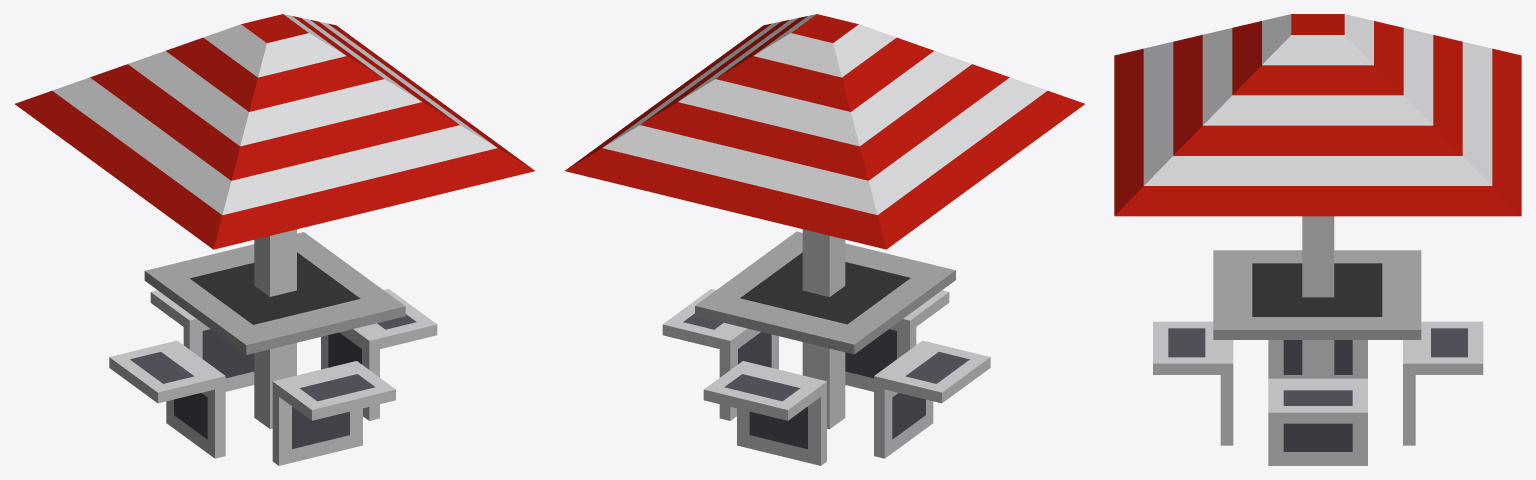
The model's file is umbrella1.FBX.
3 views of the same model, side by side, from view 1: azimuth 30°, elevation 25°; view 2: azimuth 150°, elevation 25°; view 3: azimuth 270°, elevation 25° (orthographic). The views are drawn at different scales.
Visible parts, largest first — view 1: umbrella1; view 2: umbrella1; view 3: umbrella1.
Boxes of the visible parts, x1=… form: umbrella1: x1=15, y1=14, x2=534, y2=465; umbrella1: x1=565, y1=14, x2=1084, y2=465; umbrella1: x1=1114, y1=14, x2=1521, y2=465.
Bounding box in the file's own units: 7.15 × 8.32 × 7.66.
